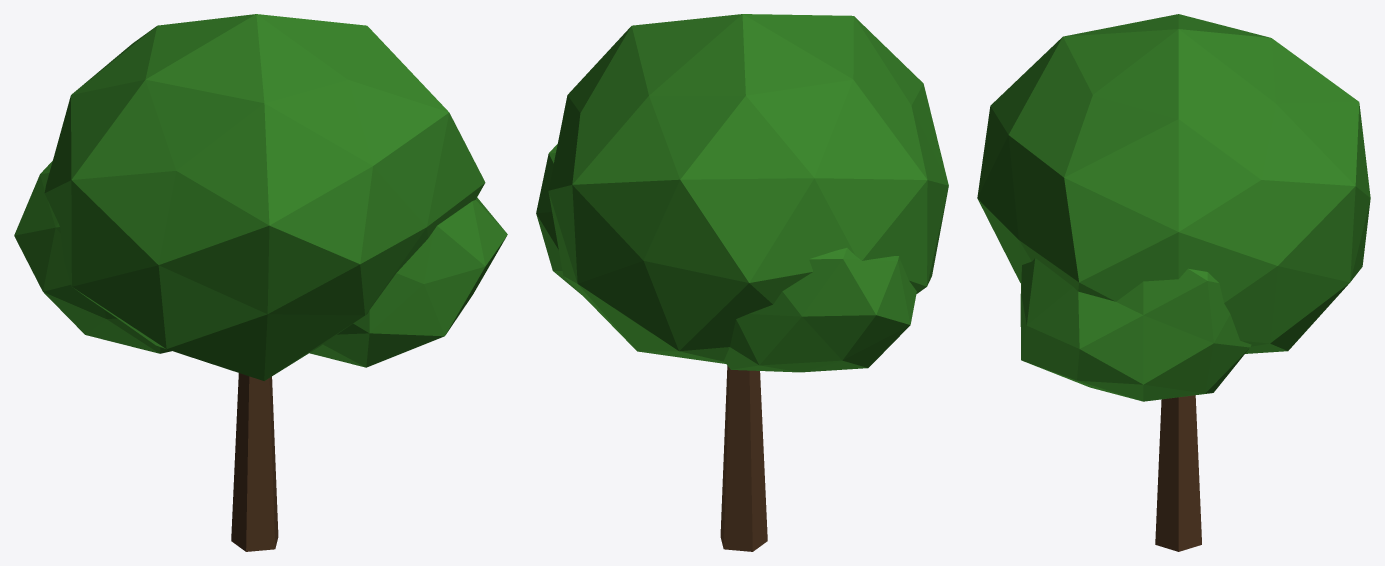
File: tree_broadleaf.glb
The picture shows the model from 3 angles, left to right: view 1: azimuth 30°, elevation 25°; view 2: azimuth 150°, elevation 25°; view 3: azimuth 270°, elevation 25°; orthographic projection. The views are drawn at different scales.
Visible parts, largest first — view 1: tree_broadleaf_mesh; view 2: tree_broadleaf_mesh; view 3: tree_broadleaf_mesh.
Part boxes in pixels (x1,y1,x2,y2): tree_broadleaf_mesh: [14, 14, 507, 551]; tree_broadleaf_mesh: [536, 14, 948, 551]; tree_broadleaf_mesh: [977, 14, 1370, 551].
Size of the model in its own units: 5.04 by 6.42 by 4.47.
